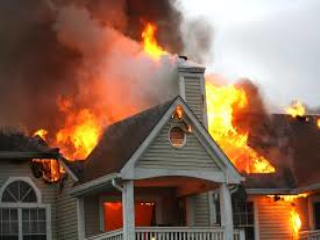fire: (199, 78, 279, 179), (43, 98, 118, 168), (135, 27, 167, 62)
smoke: (32, 5, 176, 92)
